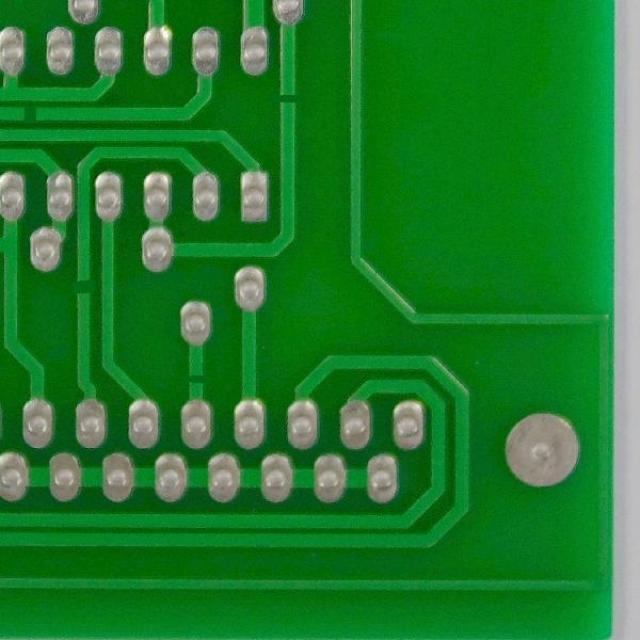open_circuit: (272, 85, 307, 113), (69, 276, 95, 301), (15, 103, 42, 125), (184, 369, 207, 390)
